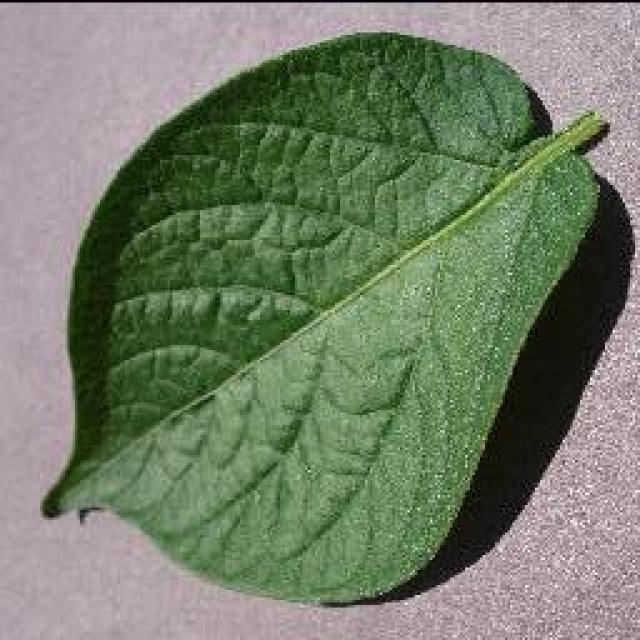Potato___healthy: (37, 25, 616, 608)
